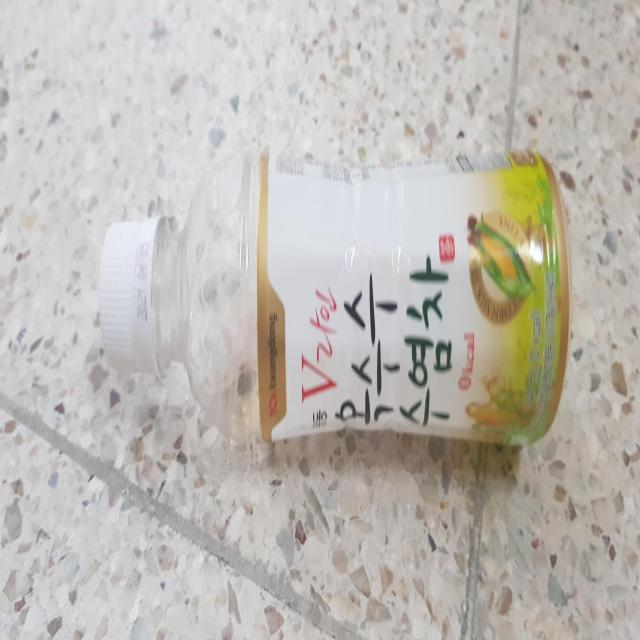plastic: (100, 150, 571, 444)
